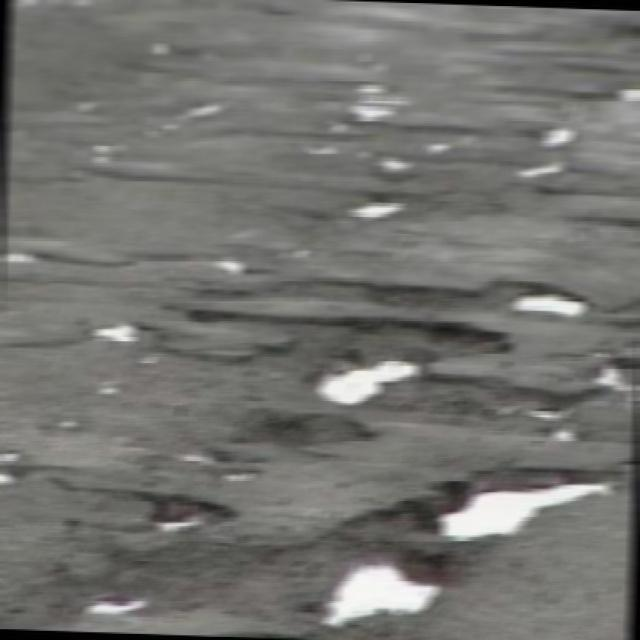Pothole: (334, 457, 635, 537), (179, 311, 525, 364), (292, 541, 482, 624), (93, 487, 253, 539), (316, 345, 424, 407), (484, 272, 604, 322), (223, 414, 382, 448), (147, 92, 242, 138), (48, 582, 160, 620), (338, 190, 424, 232), (344, 79, 414, 130), (80, 318, 152, 357), (510, 155, 584, 187), (424, 124, 484, 160), (82, 135, 126, 173), (524, 122, 584, 149), (0, 241, 47, 270), (0, 439, 24, 488), (305, 142, 348, 169), (600, 83, 640, 110), (369, 151, 414, 175)
